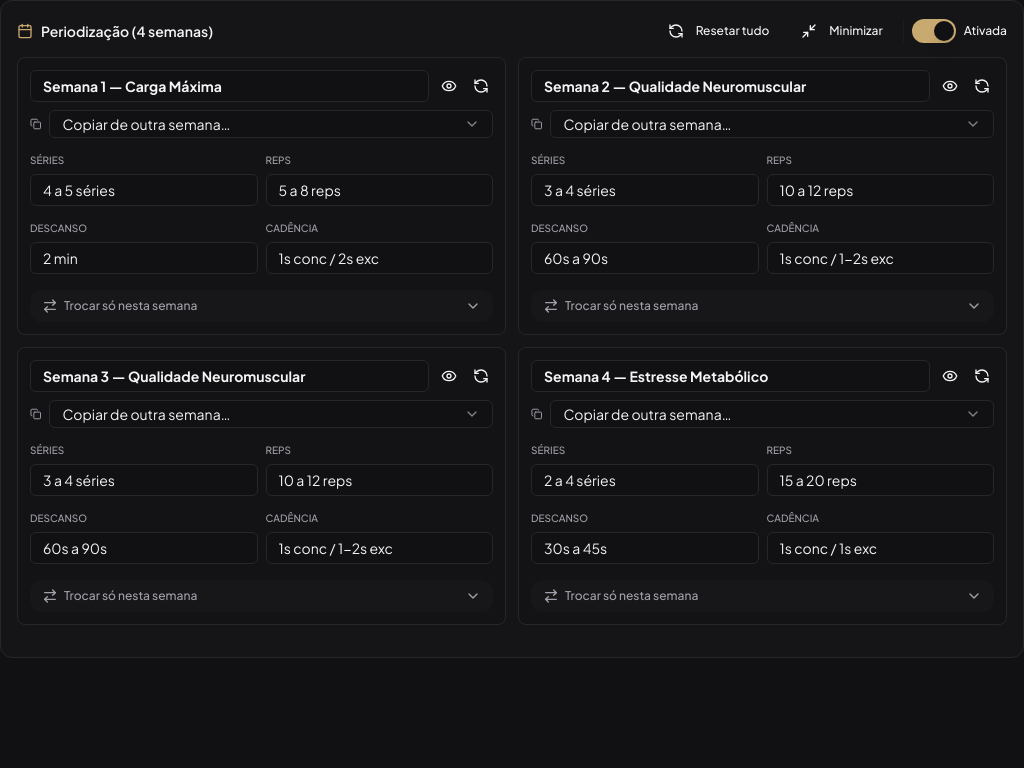
Test: WorkoutPeriodizationEditor — rascunho único + salvar por semana › resincroniza o rascunho quando o payload muda por fora (Resetar padrão)
The image size is (1024, 768).
Click the 1st button "Trocar só nesta semana" at (131, 306), box x1=30 y1=290 x2=493 y2=322
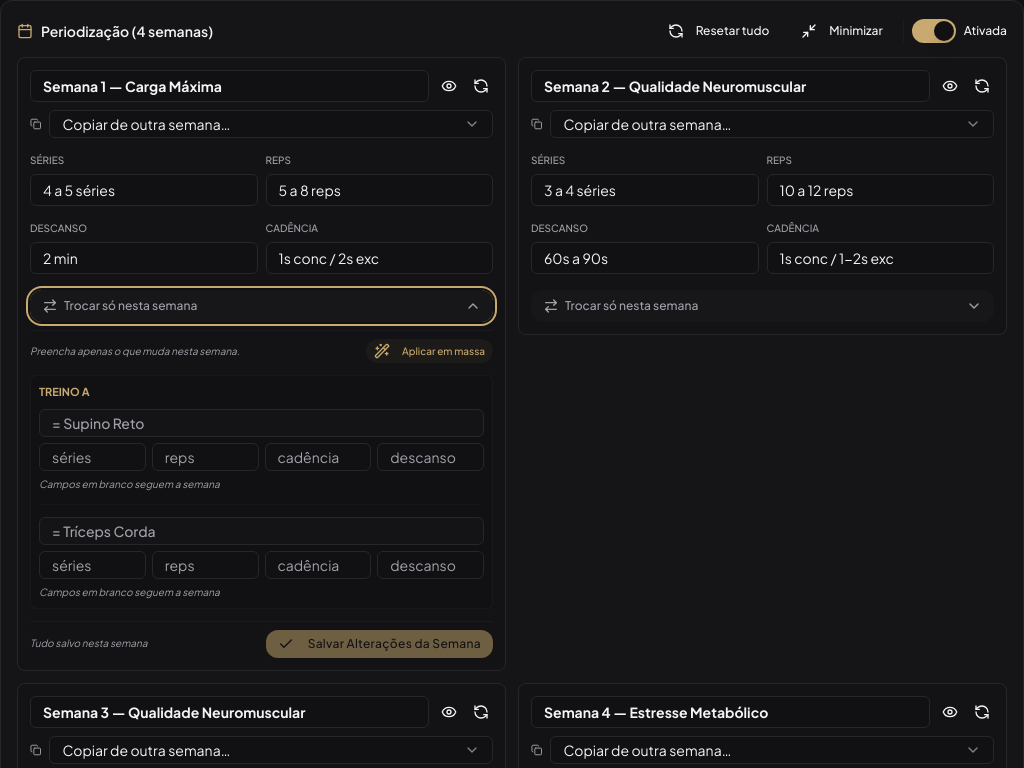
Type "20" into the 1st field with placeholder "reps" at (205, 456), box x1=152 y1=442 x2=259 y2=470
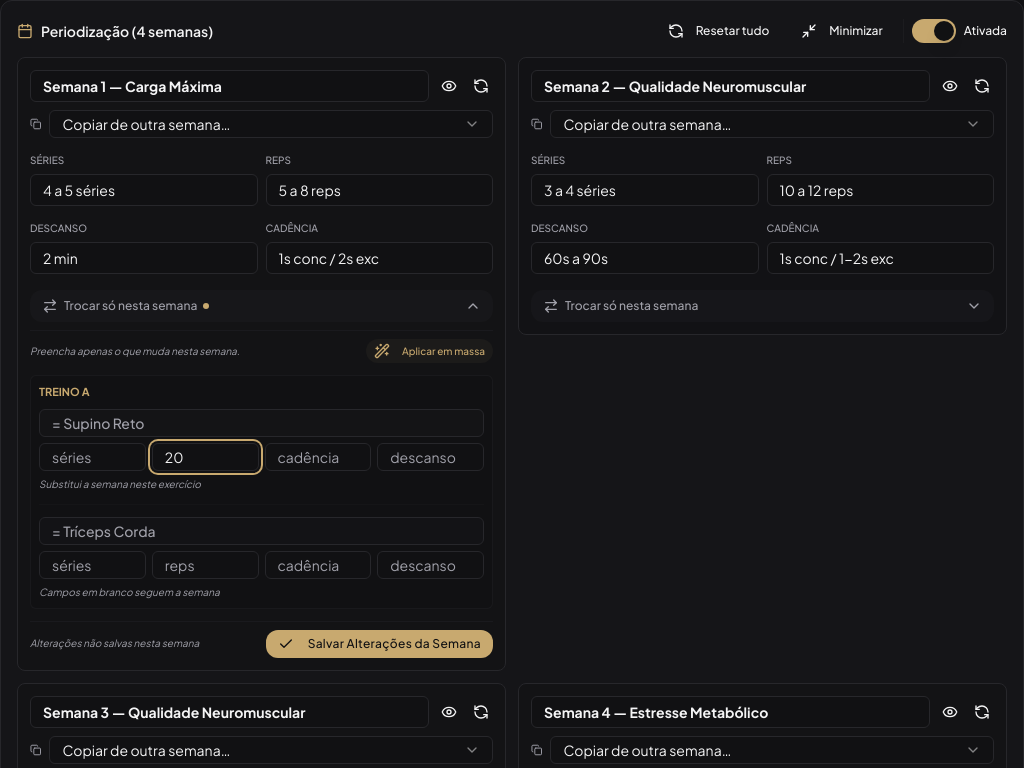
Click the button "Salvar Alterações da Semana" at (379, 644), box x1=266 y1=630 x2=493 y2=658
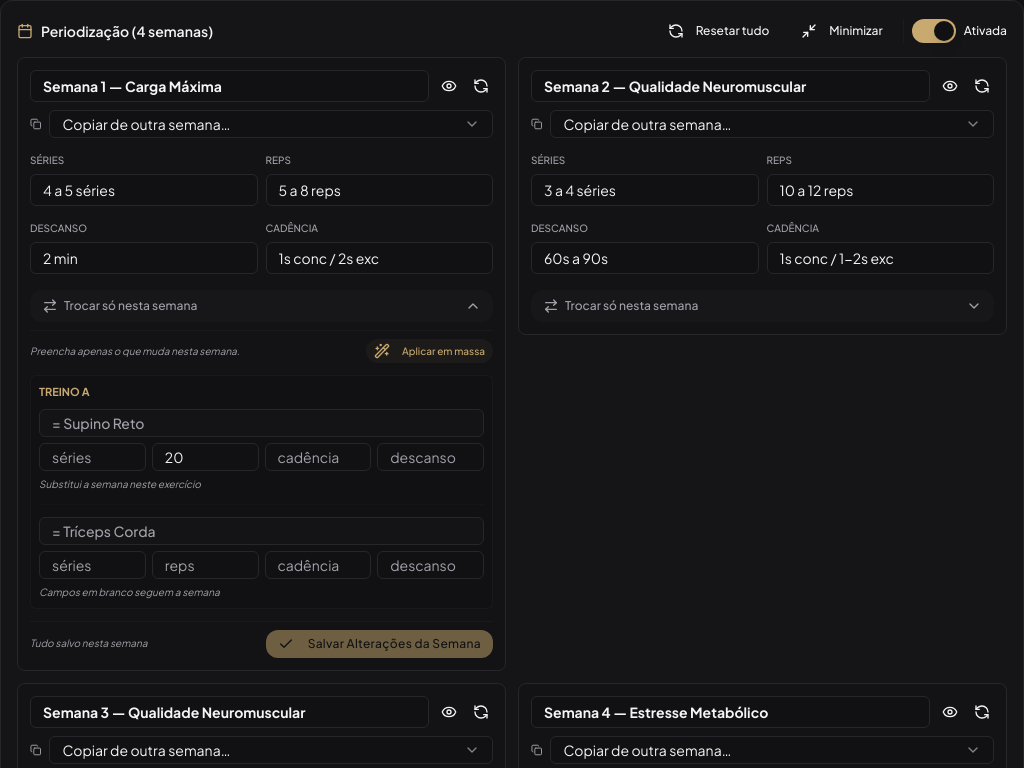
Click the 1st button titled "Resetar padrão" at (481, 86), box x1=469 y1=72 x2=493 y2=100
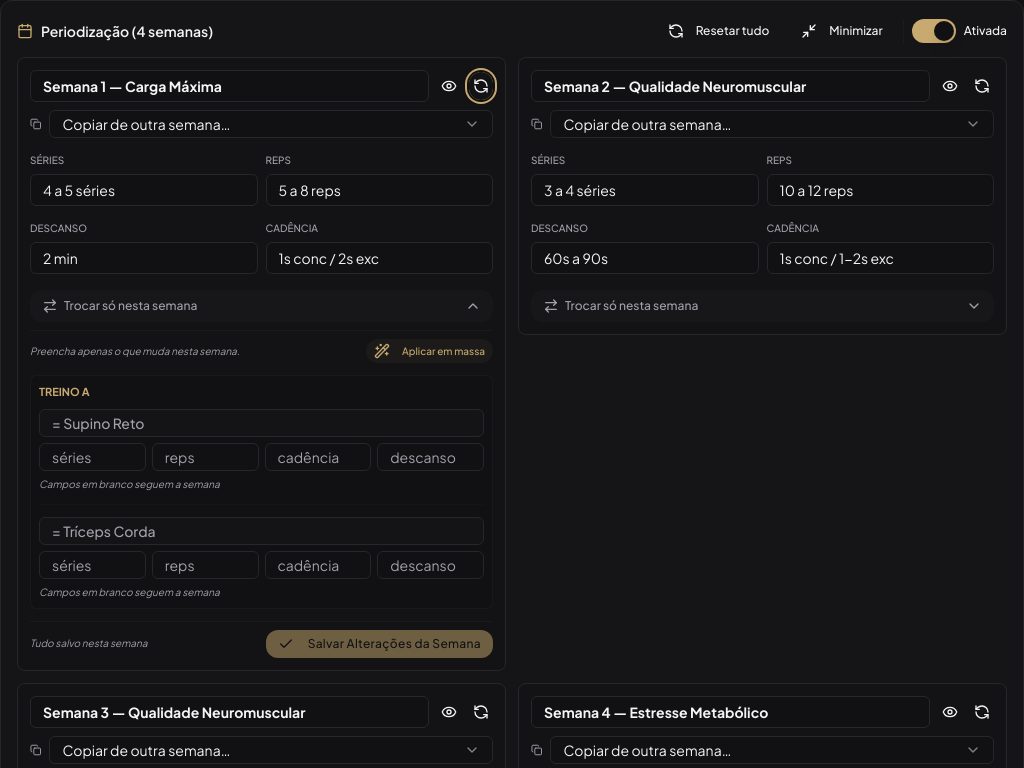
Expected: the 1st field with placeholder "reps" is empty, x1=152 y1=442 x2=259 y2=470
